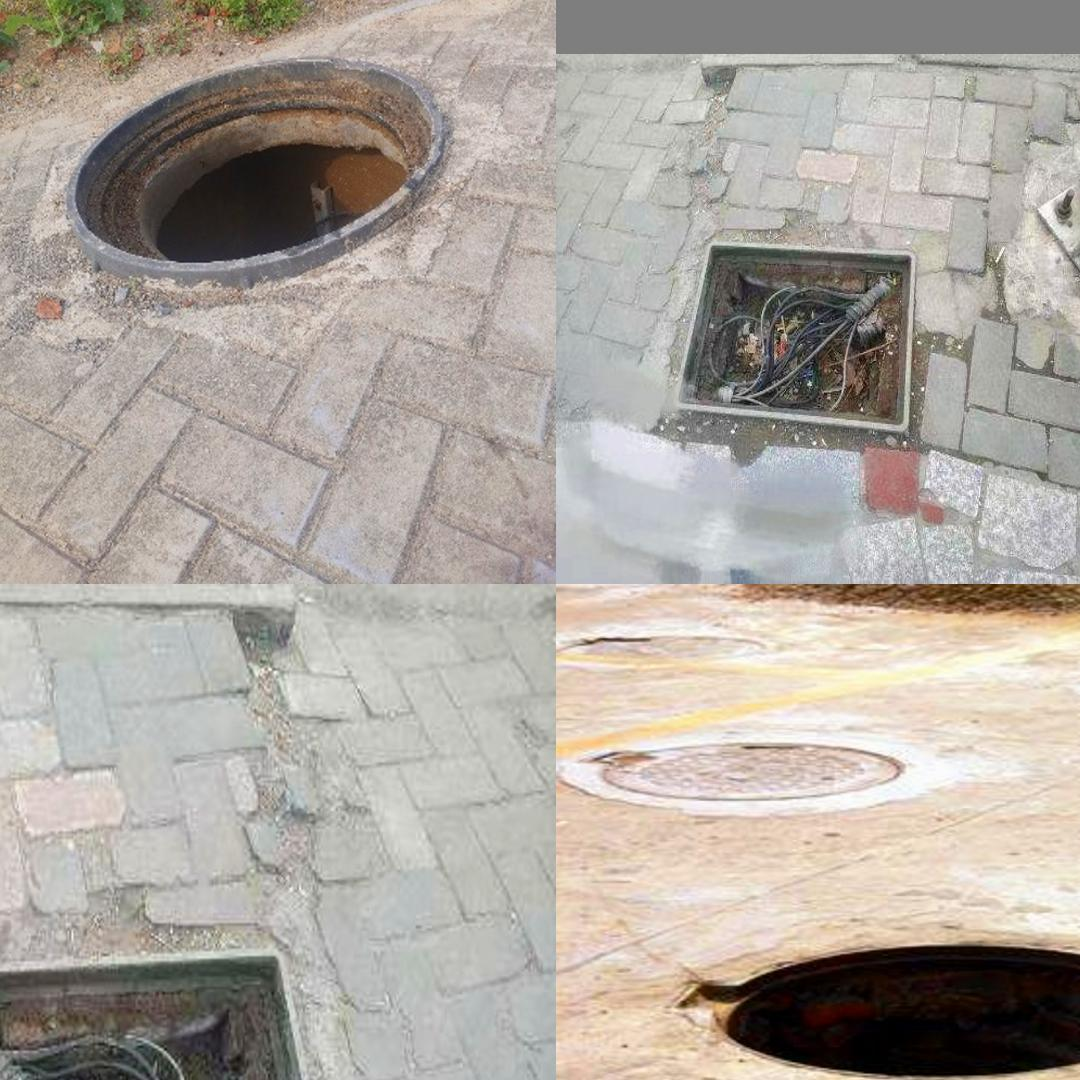lose: (35, 25, 493, 287), (677, 911, 1080, 1080), (668, 228, 934, 458), (0, 935, 310, 1080)
